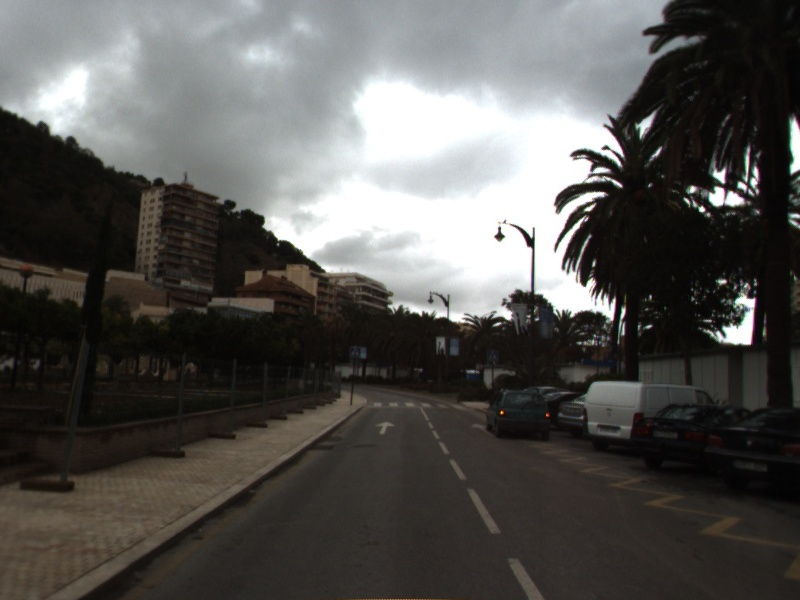STRAIGHT: (469, 421, 497, 439), (373, 419, 398, 437)
